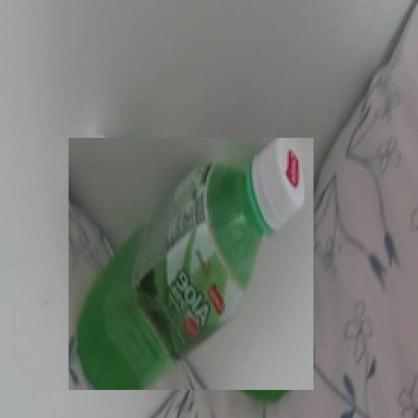bottle: (68, 138, 314, 390)
cap: (245, 139, 315, 237)
label: (126, 152, 253, 357)
